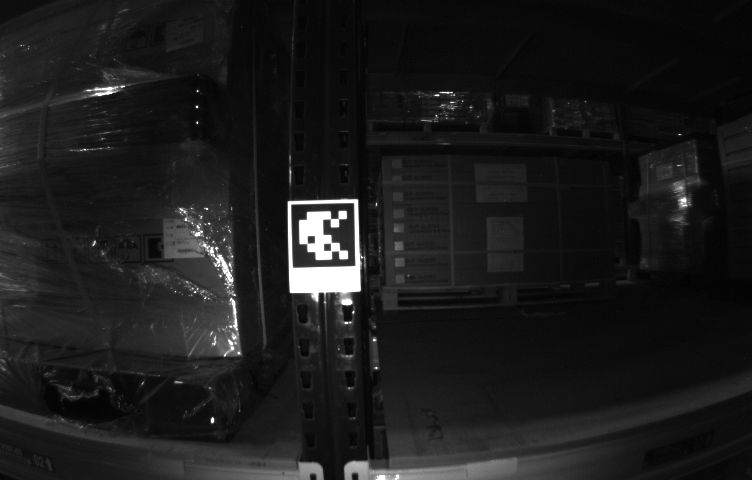True Barcode: (161, 218, 208, 259)
